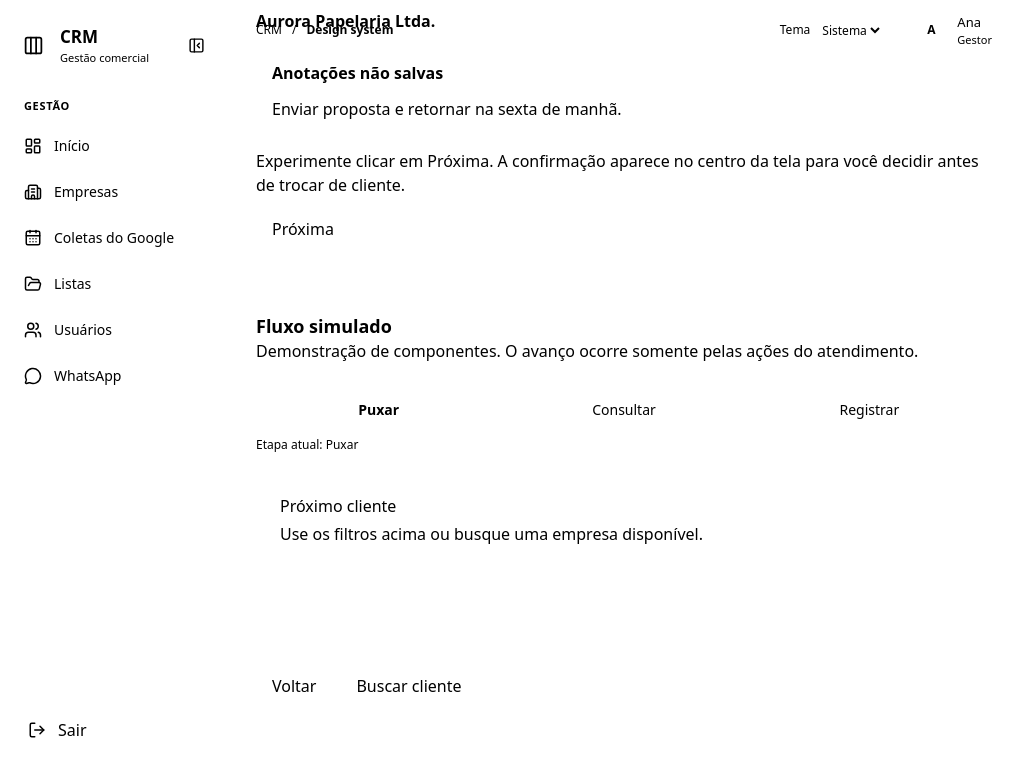
Test case: avança apenas pelas ações e preserva anotações ao voltar
(page scrolled)
Expected: the button "Voltar" is disabled, x1=256 y1=666 x2=332 y2=706
Click the button "Buscar cliente".
click(409, 686)  # box x1=340 y1=666 x2=478 y2=706
Wait 700 ms
(page scrolled)
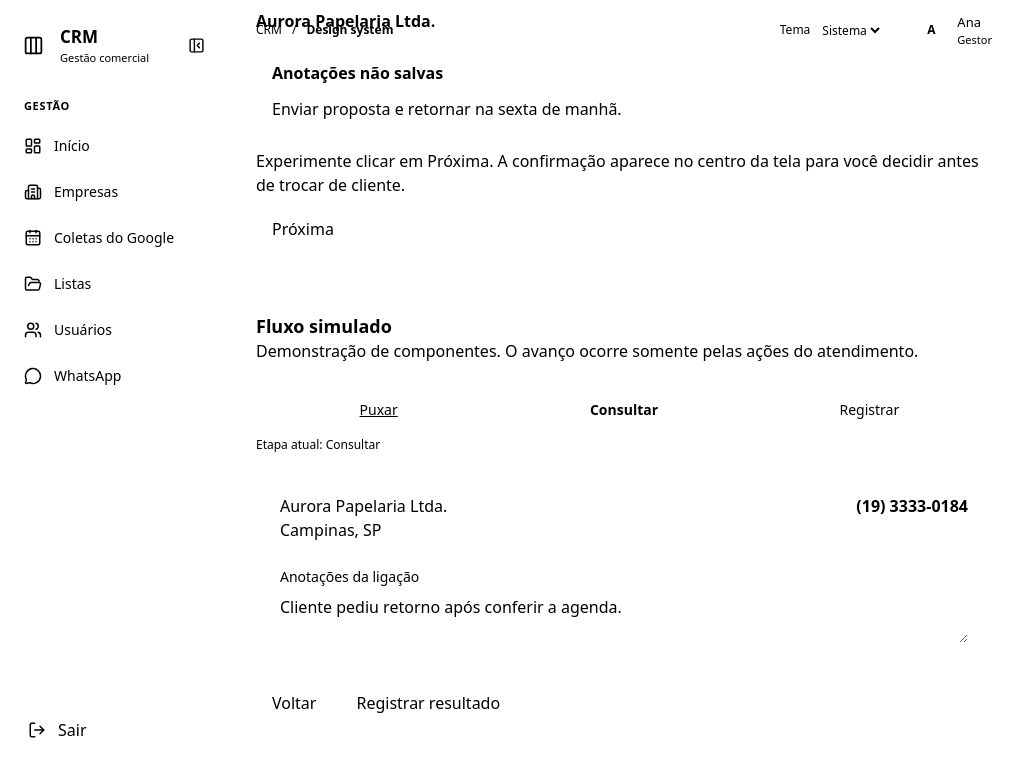
Expected: the text "Etapa atual: Consultar" is shown, x1=256 y1=436 x2=380 y2=453
Replace the text in the text box named "Anotações da ligação" with "Retornar na sexta pela manhã" at (624, 619), box x1=280 y1=595 x2=968 y2=643
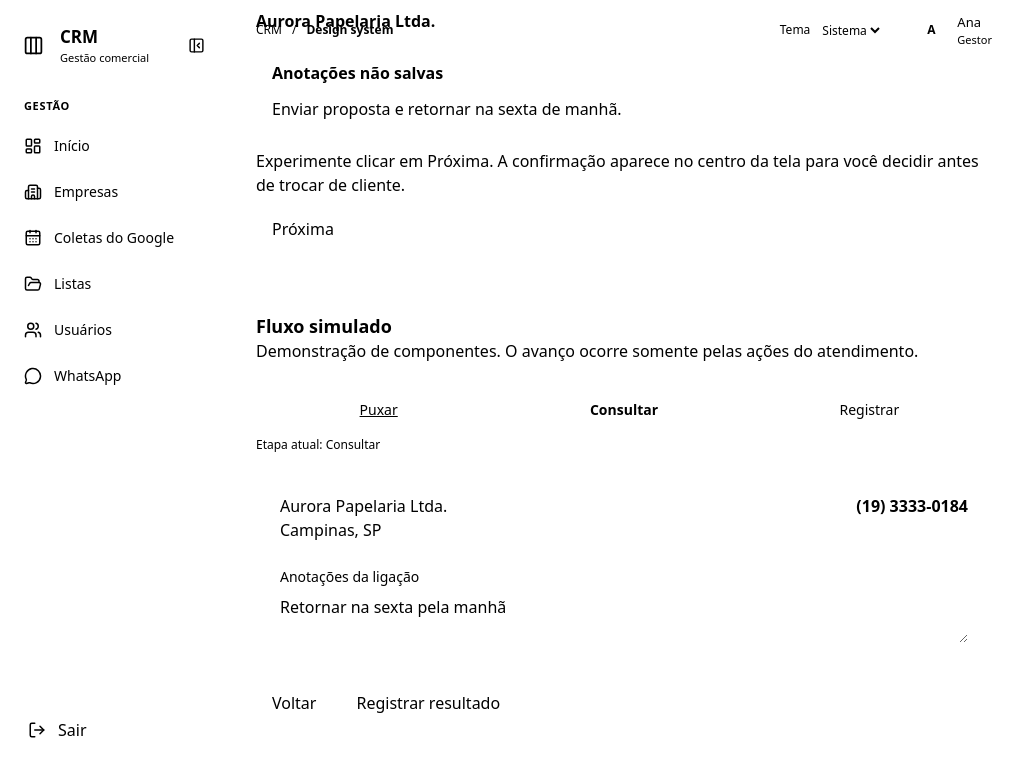
Click the button "Registrar resultado".
click(428, 703)  # box x1=340 y1=683 x2=516 y2=723
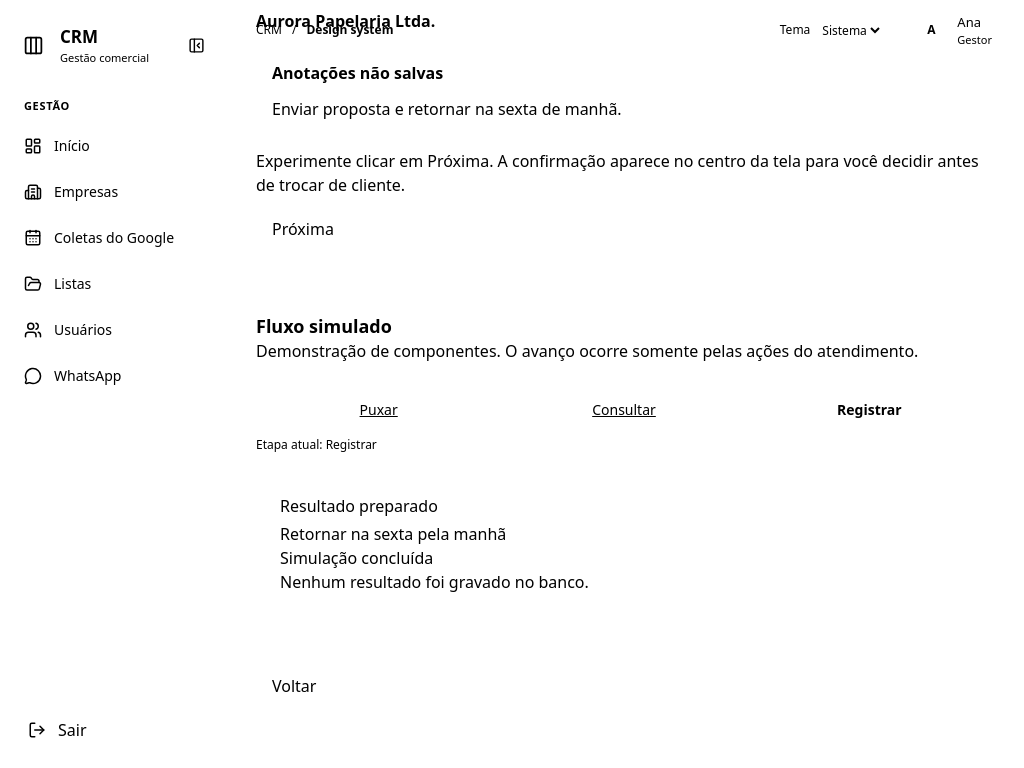
Expected: the text "Etapa atual: Registrar" is shown, x1=256 y1=436 x2=377 y2=453
Click the button "Voltar".
click(294, 686)  # box x1=256 y1=666 x2=332 y2=706
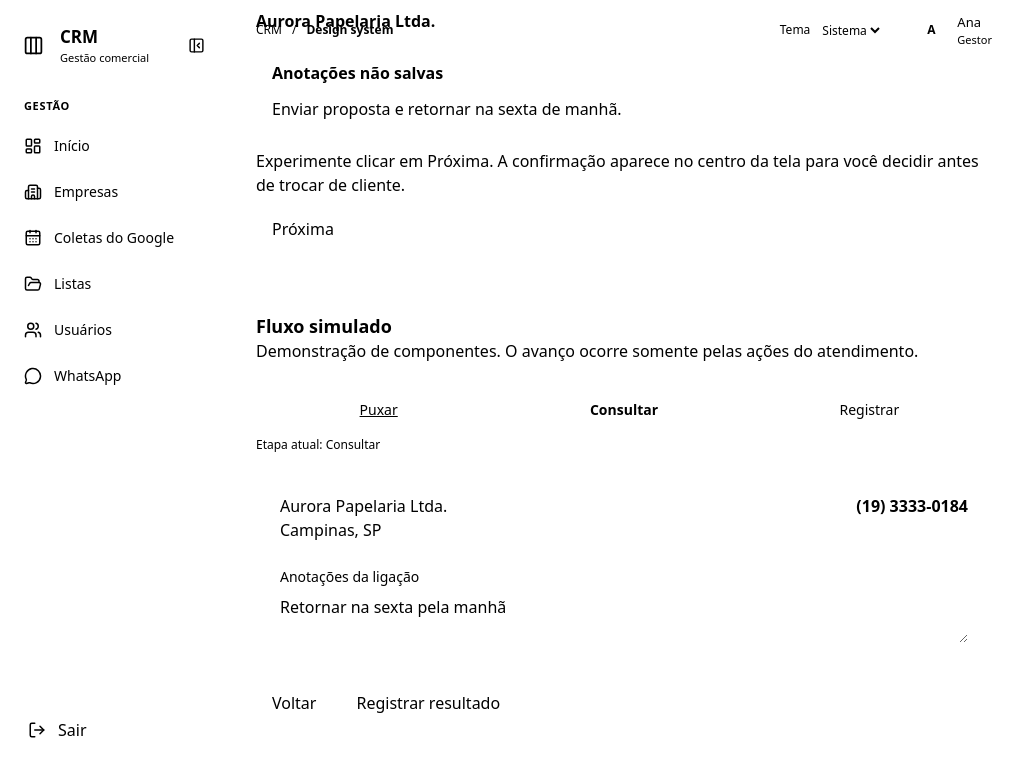
Expected: the text "Etapa atual: Consultar" is shown, x1=256 y1=436 x2=380 y2=453
Expected: the text box named "Anotações da ligação" holds "Retornar na sexta pela manhã", x1=280 y1=595 x2=968 y2=643
